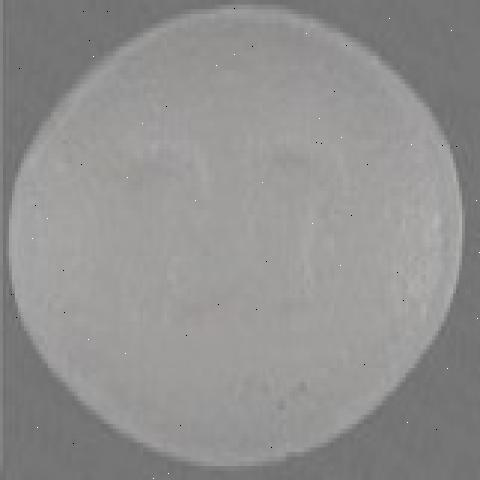Pill: (1, 8, 478, 474)
